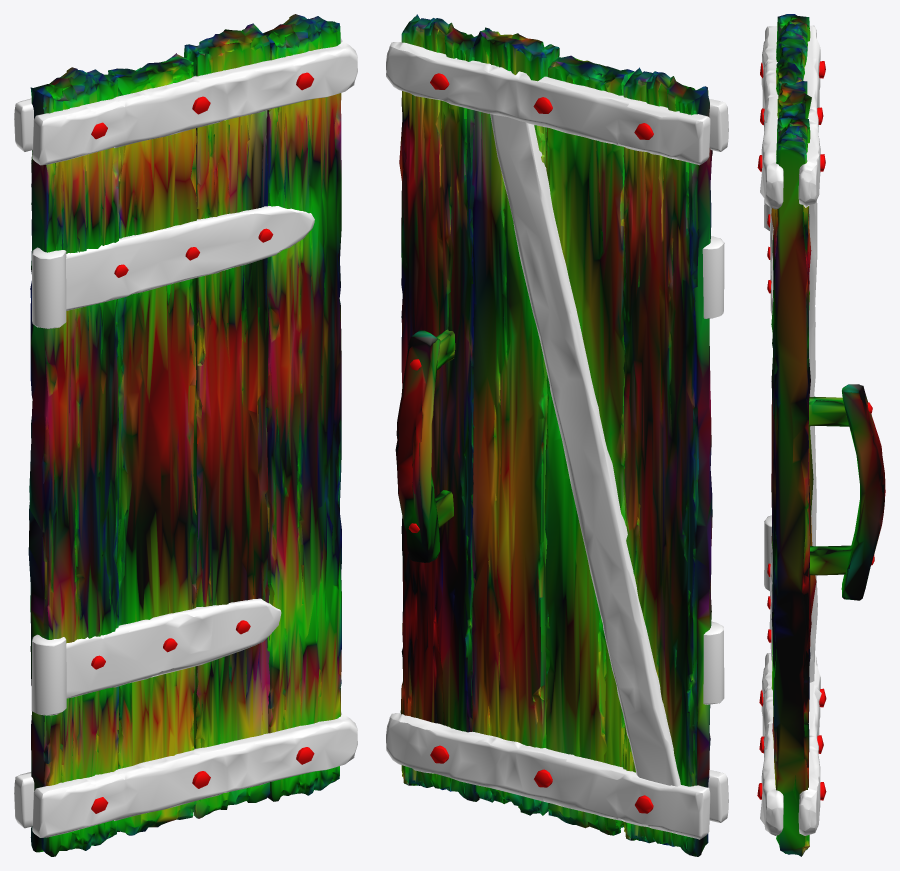
Rendered from SM_Reinforced_Window.fbx.
3 views of the same model, side by side, from view 1: azimuth 30°, elevation 25°; view 2: azimuth 150°, elevation 25°; view 3: azimuth 270°, elevation 25° (orthographic). The views are drawn at different scales.
Visible parts, largest first — view 1: SM_Reinforced_Window_LOD0; view 2: SM_Reinforced_Window_LOD0; view 3: SM_Reinforced_Window_LOD0.
Boxes of the visible parts, x1,y1,x2,y2 form: SM_Reinforced_Window_LOD0: (14,14,357,856); SM_Reinforced_Window_LOD0: (386,14,728,856); SM_Reinforced_Window_LOD0: (757,14,885,856).
Size of the model in its own units: 53.33 by 19.75 by 123.
